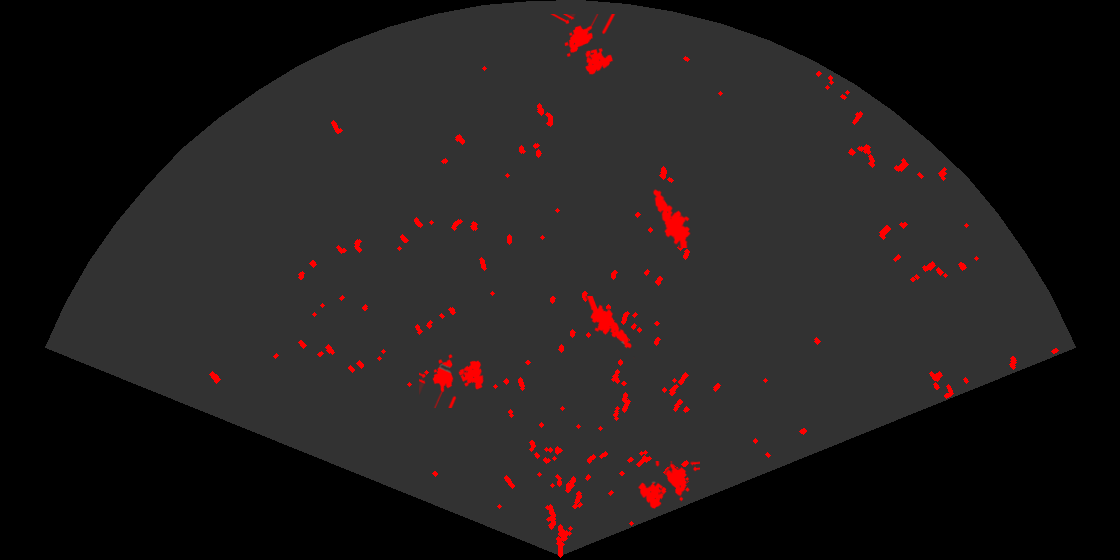cage: (549, 14, 617, 76), (419, 352, 485, 408), (636, 461, 700, 510)
frogman: (585, 296, 635, 359), (651, 188, 692, 248)
